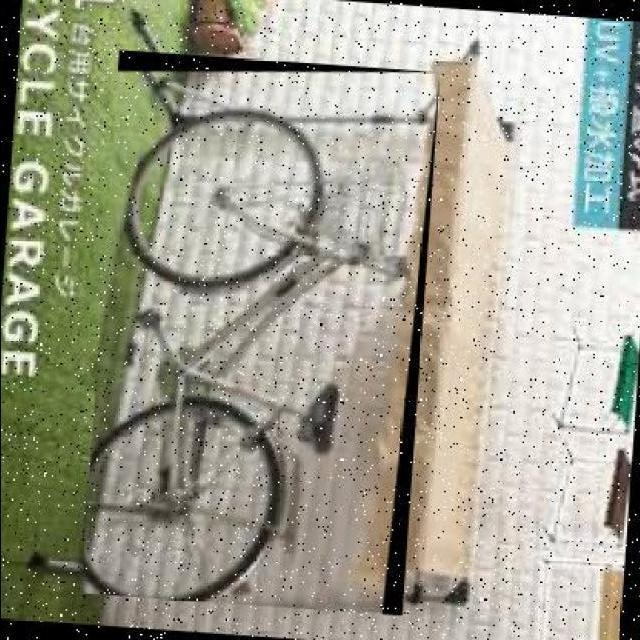bicycle: (79, 50, 439, 618)
